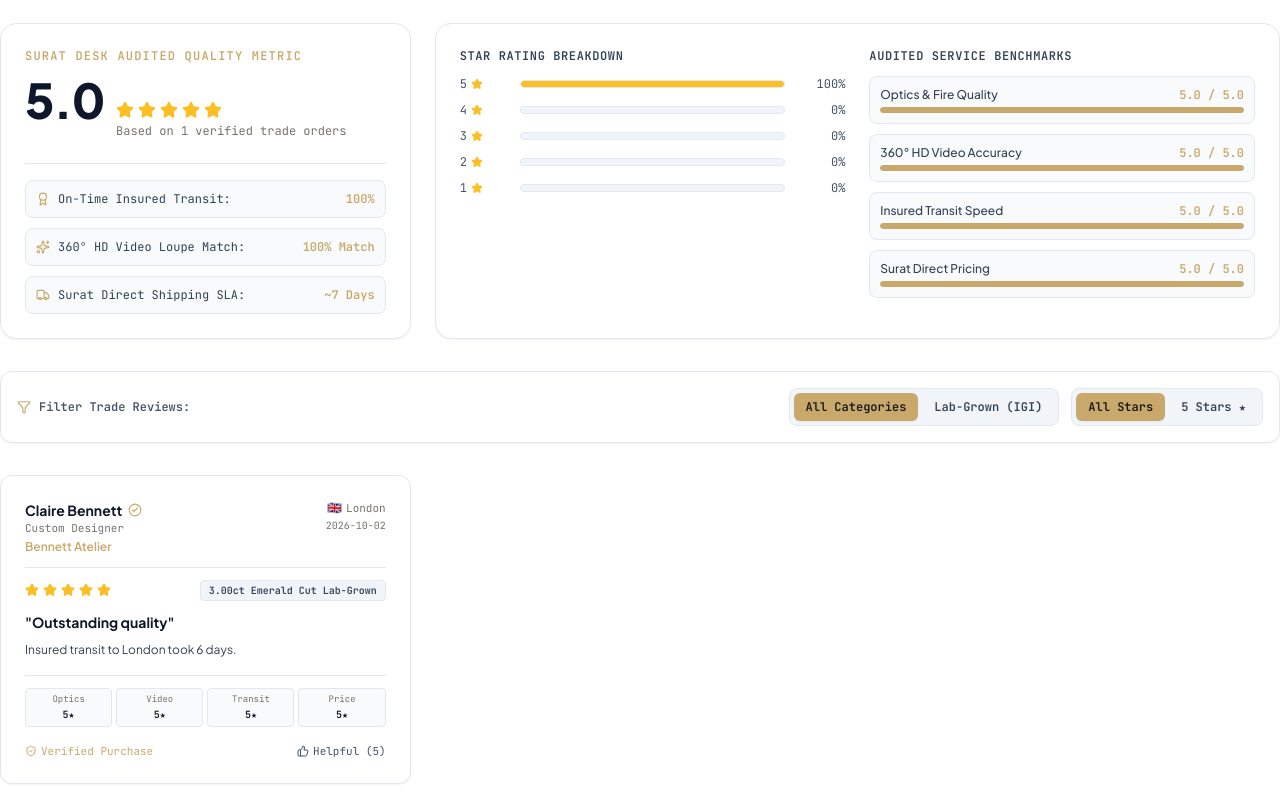
Test: User Reviews Only (Zero Default Initialized Reviews) Test Suite › case 5: increments helpful counter on user review card when clicked
(page scrolled)
Check: the text "Claire Bennett" is shown, box [25,500,122,520]
Click the button "Helpful (5)".
click(341, 751)  # box [297,743,386,759]
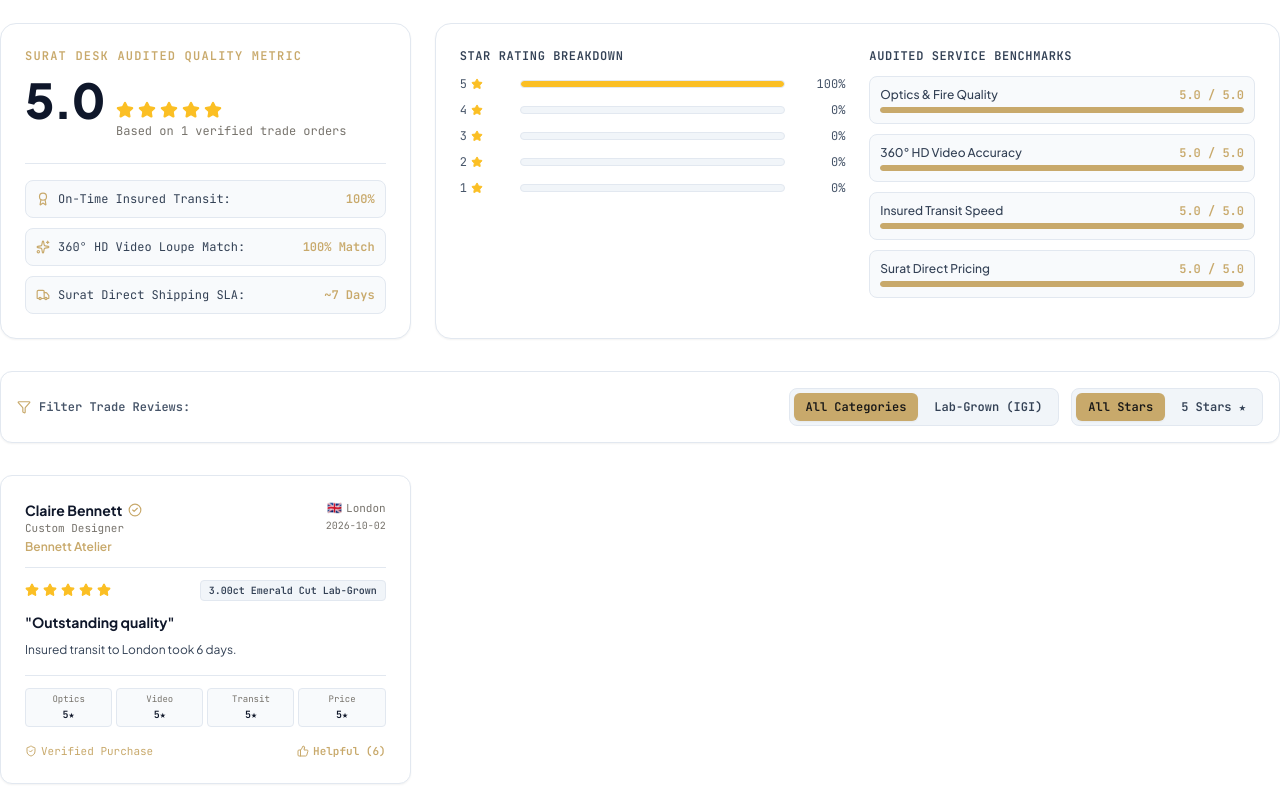
Check: the button "Helpful (6)" is disabled, box [297,743,386,759]
